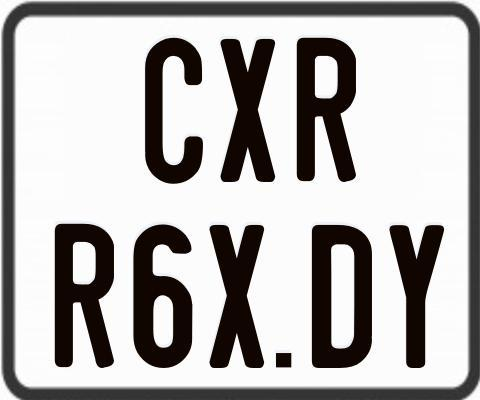6: (130, 223, 189, 372)
C: (145, 38, 208, 190)
D: (312, 225, 375, 369)
R: (295, 36, 357, 186), (53, 222, 113, 367)
X: (218, 38, 277, 185), (210, 224, 266, 370)
Y: (389, 225, 449, 372)
